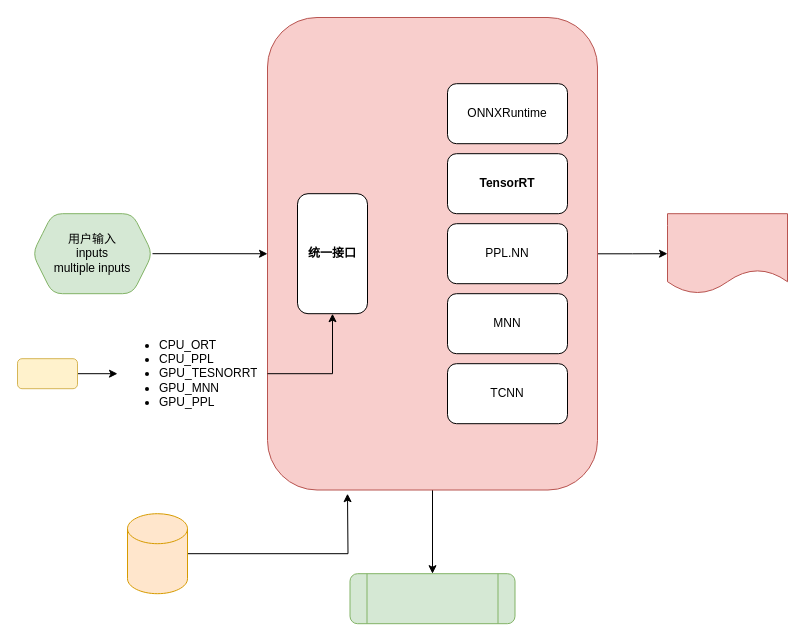
This 805x642 diagram has some shape labels left out. The shapes that lost their labels are listed below. From the top down, each one's box as (x1, y1, x2, y2) in pixels, then its label:
(666, 213, 788, 294): 输出 outputs multiple outputs
(16, 358, 78, 389): set
(126, 513, 188, 594): 同一个部署模型 A.onnx
(349, 573, 515, 624): 输出最优推理配置 输出推荐应用后端
